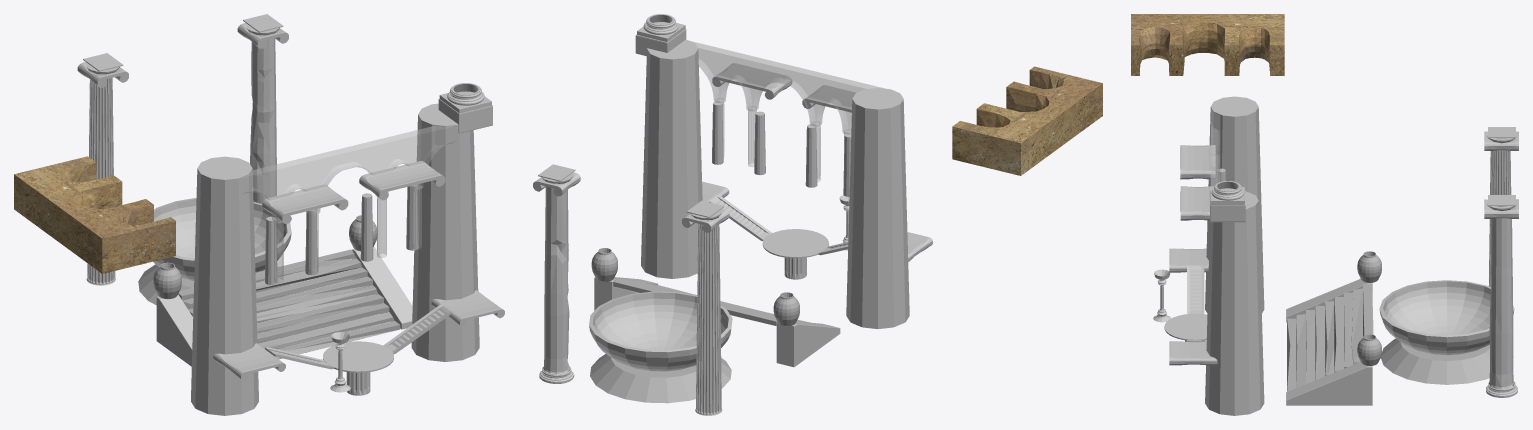
The model's file is stonyruins.fbx.
3 views of the same model, side by side, from view 1: azimuth 30°, elevation 25°; view 2: azimuth 150°, elevation 25°; view 3: azimuth 270°, elevation 25° (orthographic). The views are drawn at different scales.
Visible parts, largest first — view 1: StonyRuins; view 2: StonyRuins; view 3: StonyRuins.
Part boxes in pixels (x1,y1,x2,y2): StonyRuins: (14,14,504,415); StonyRuins: (533,14,1102,415); StonyRuins: (1131,14,1518,415).
Bounding box in the file's own units: 102 × 57.84 × 90.63.
